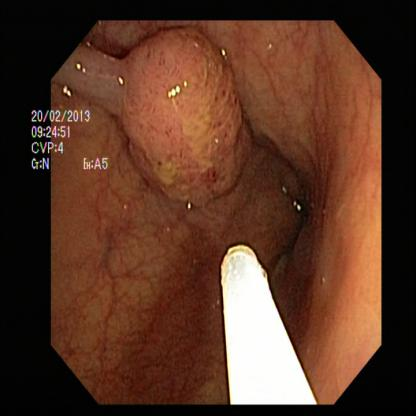Labels: (31, 101, 111, 183)
Polyps: (116, 46, 261, 200)
